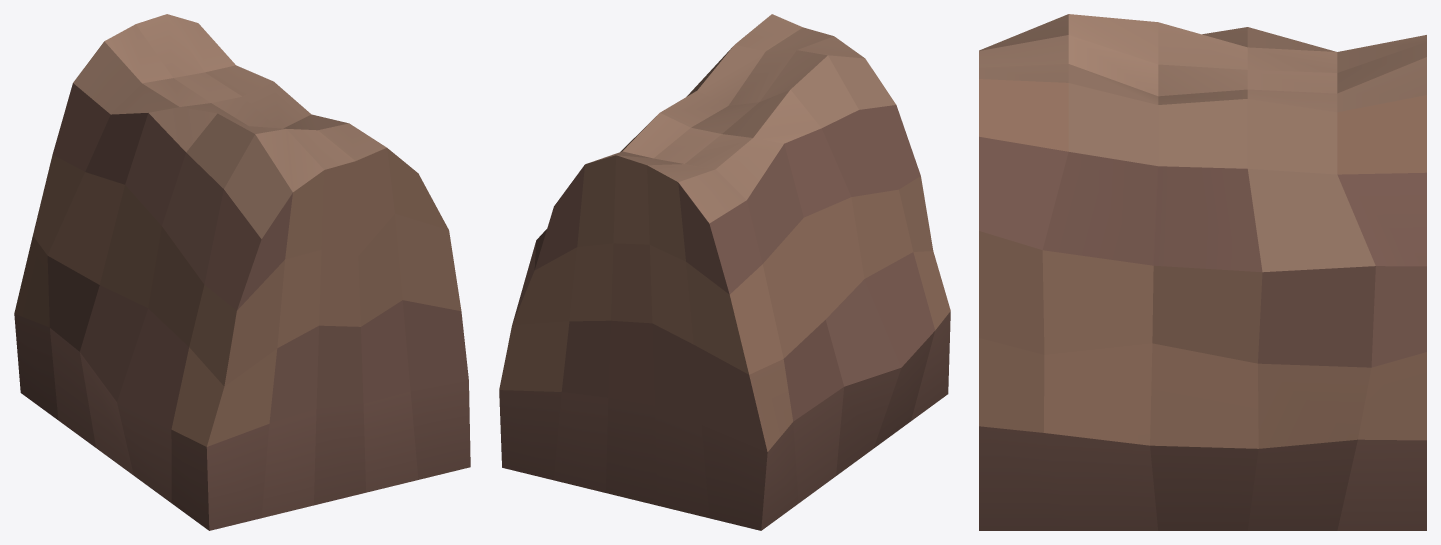
File: roca_recta_2.glb
The picture shows the model from 3 angles, left to right: view 1: azimuth 30°, elevation 25°; view 2: azimuth 150°, elevation 25°; view 3: azimuth 270°, elevation 25°; orthographic projection. The views are drawn at different scales.
Visible parts, largest first — view 1: propforge-cuartos-roca_recta; view 2: propforge-cuartos-roca_recta; view 3: propforge-cuartos-roca_recta.
Boxes of the visible parts, x1,y1,x2,y2 form: propforge-cuartos-roca_recta: (14, 14, 470, 530); propforge-cuartos-roca_recta: (499, 14, 950, 530); propforge-cuartos-roca_recta: (979, 14, 1426, 530).
Size of the model in its own units: 0.917 by 1.02 by 1.
